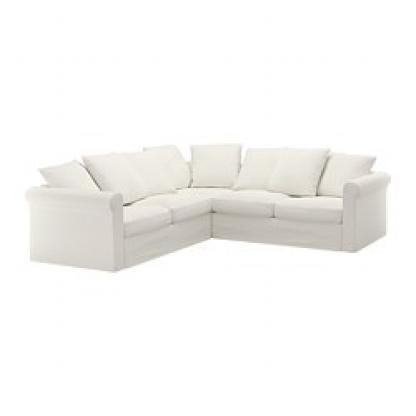Sofa: (18, 118, 393, 286)
